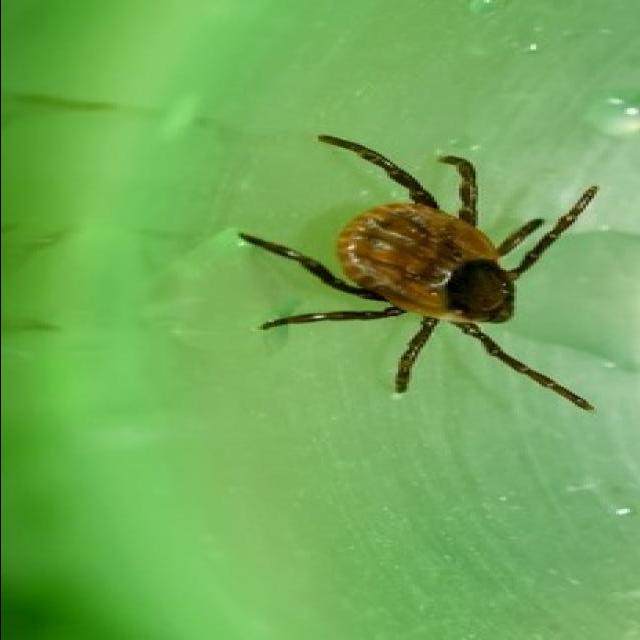Rhipicephalus Sanguineus-F: (237, 137, 596, 409)
